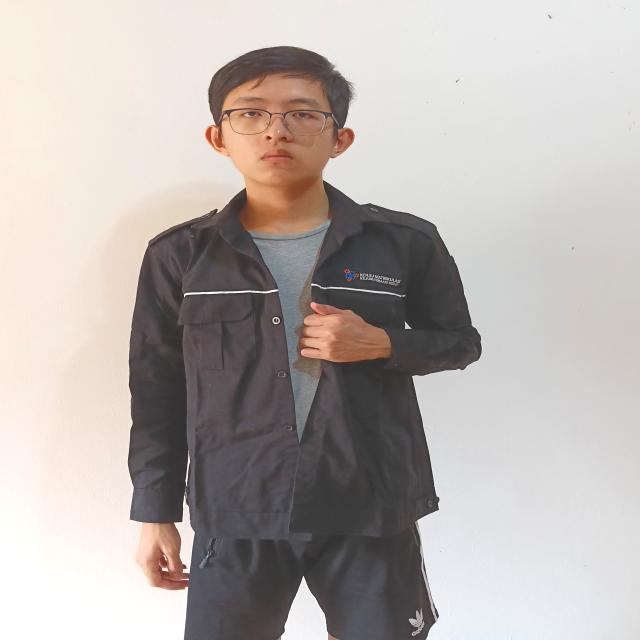person_with_labcoat: (128, 47, 481, 640)
